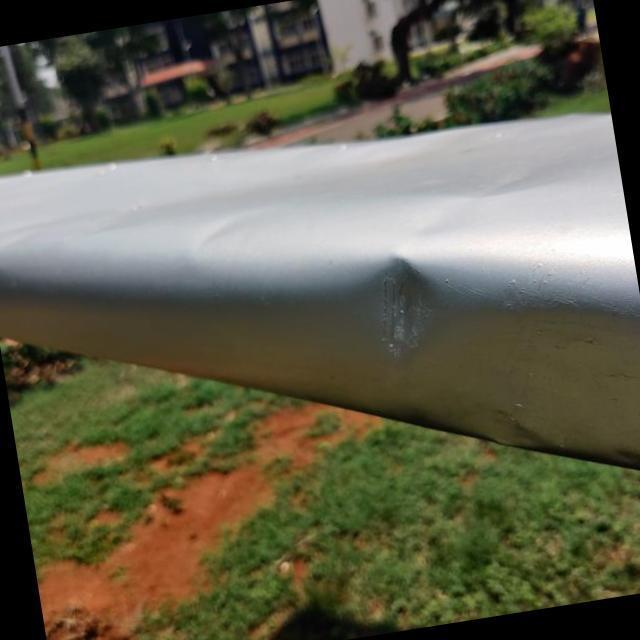Dent: (333, 233, 466, 386)
